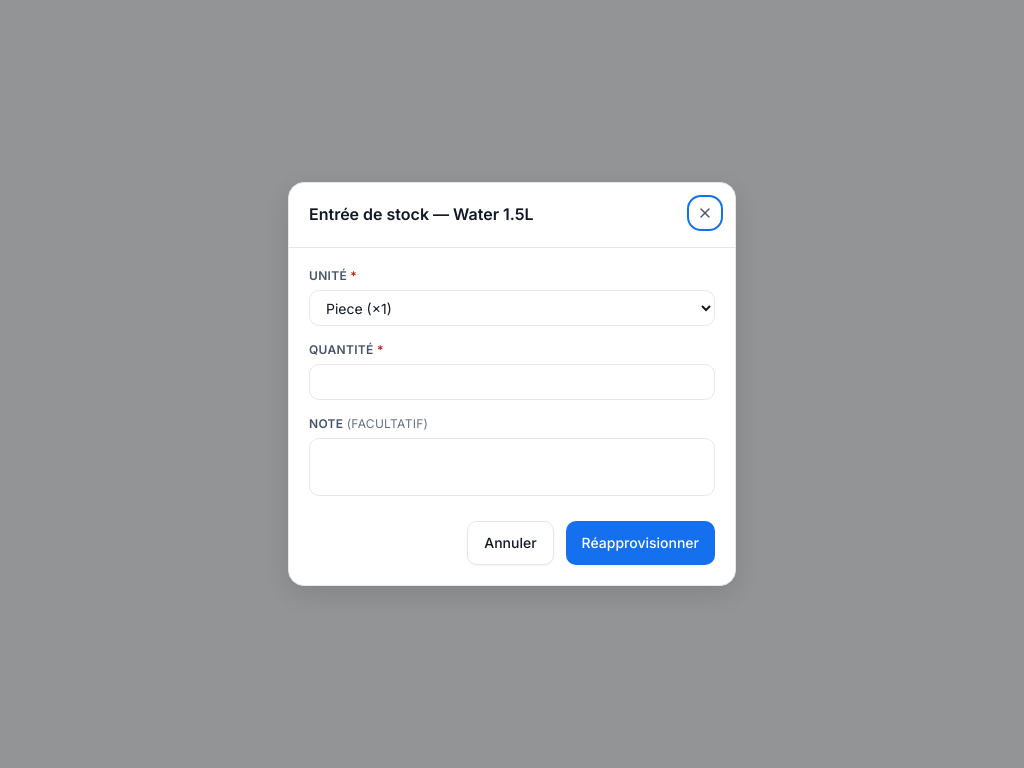
Test case: RestockModal mutation error path › renders mapped INVALID_QUANTITY after RPC error
In the number field: (512, 382) [309,364,715,400], type "2"
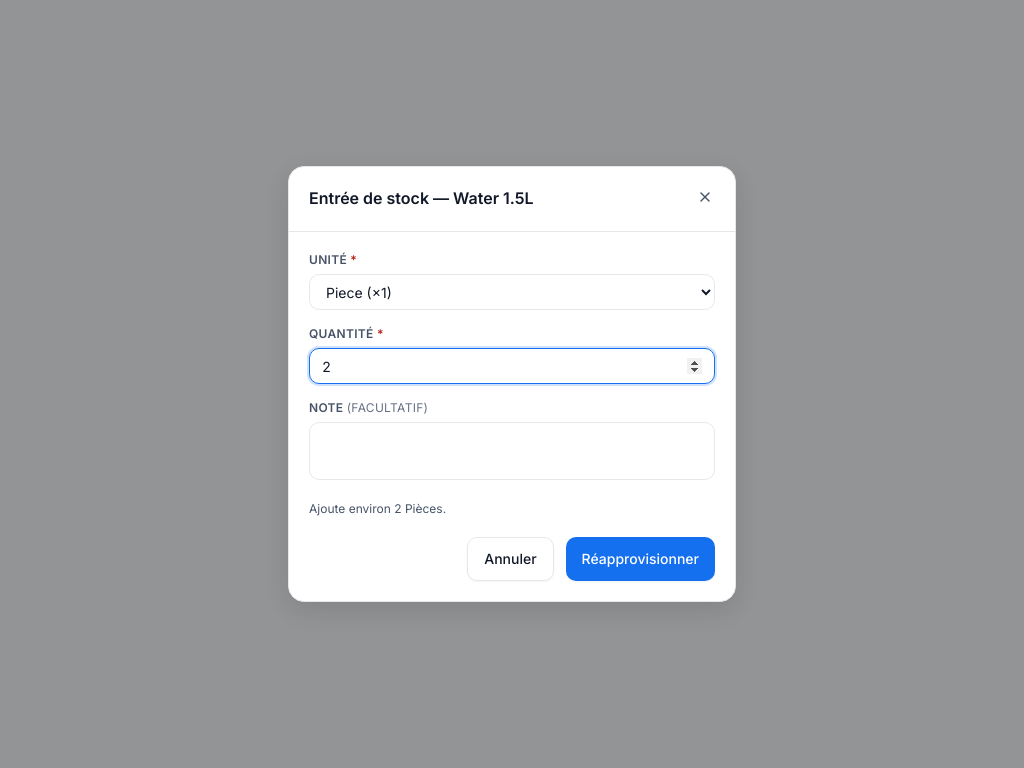
Click the button "Réapprovisionner": (640, 559) [566,537,715,581]
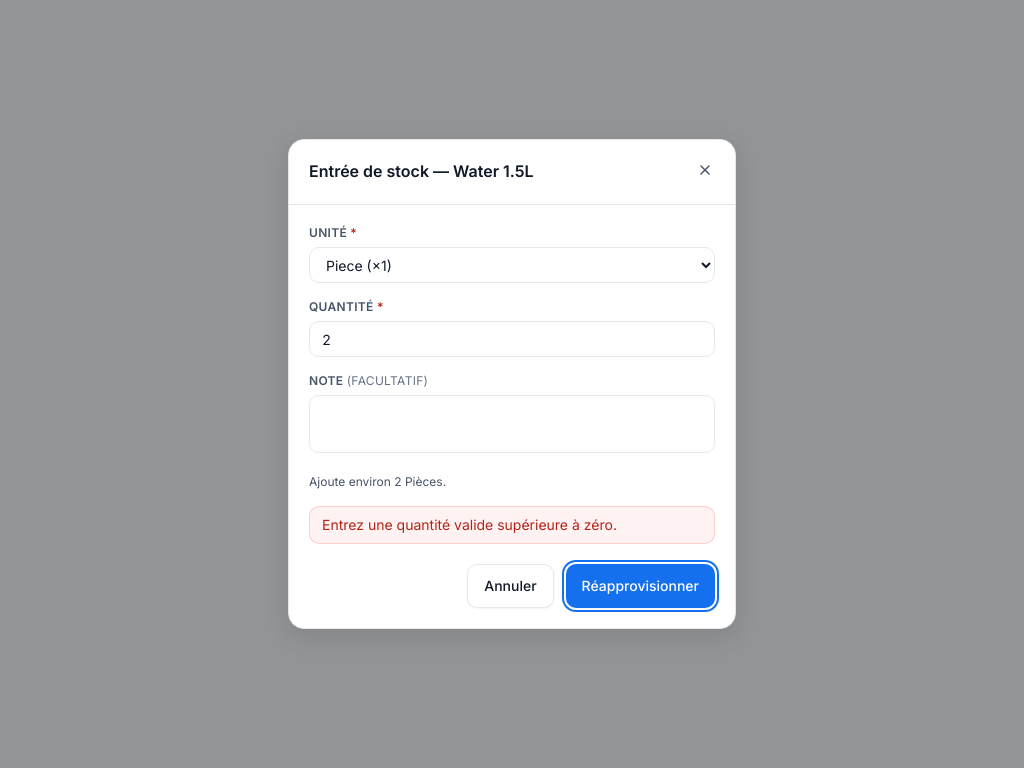
expect the text "Entrez une quantité valide supérieure à zéro." is shown: met, box [322,516,617,533]
